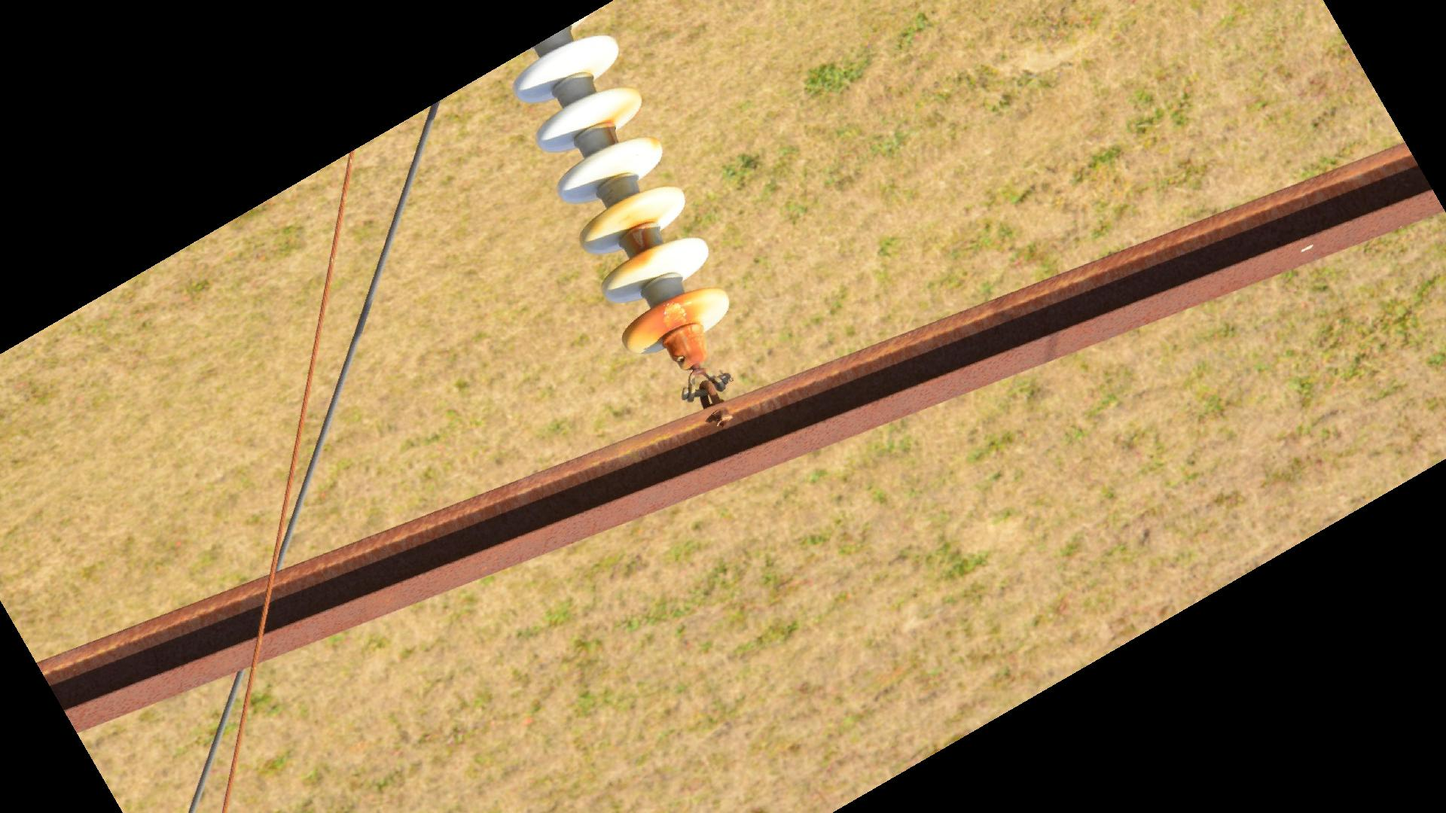insulator: (508, 30, 734, 358)
insulator_flashover: (660, 300, 690, 331)
